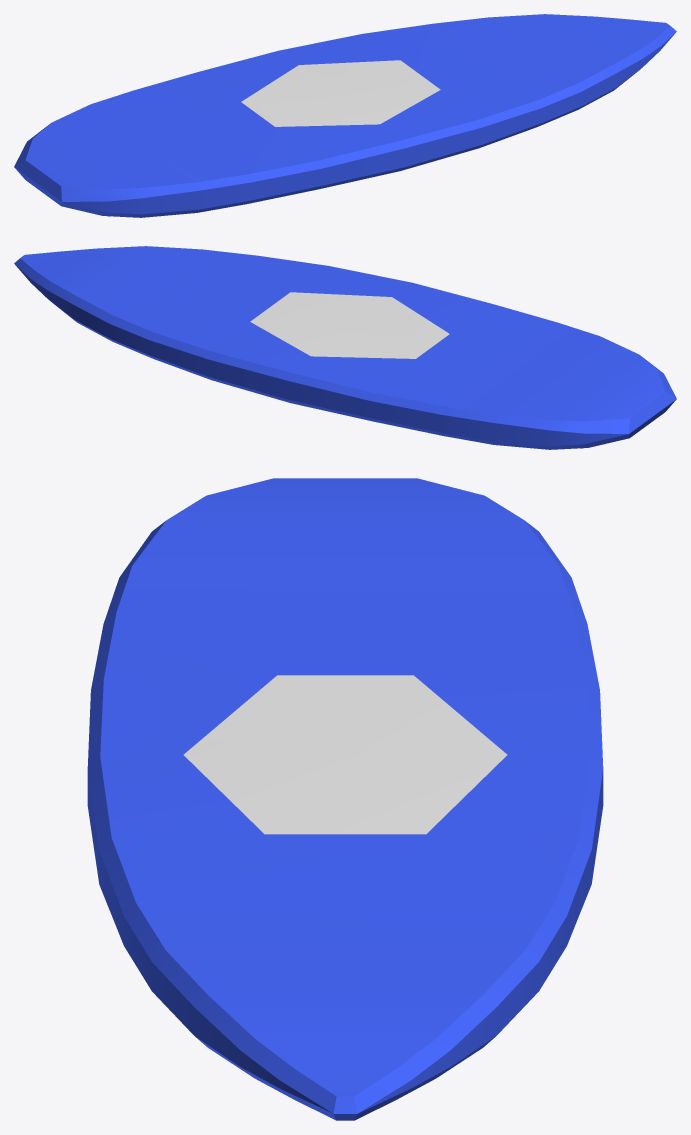
The model's file is sörf tahtası koyu mavi.fbx.
3 views of the same model, one above another, from view 1: azimuth 30°, elevation 25°; view 2: azimuth 150°, elevation 25°; view 3: azimuth 270°, elevation 25° (orthographic). The views are drawn at different scales.
Parts seen in each view (by area): view 1: pCube1; view 2: pCube1; view 3: pCube1.
Boxes of the visible parts, x1,y1,x2,y2 form: pCube1: (14, 14, 676, 217); pCube1: (14, 246, 676, 449); pCube1: (87, 478, 603, 1120).
Bounding box in the file's own units: 294 × 29.19 × 103.
